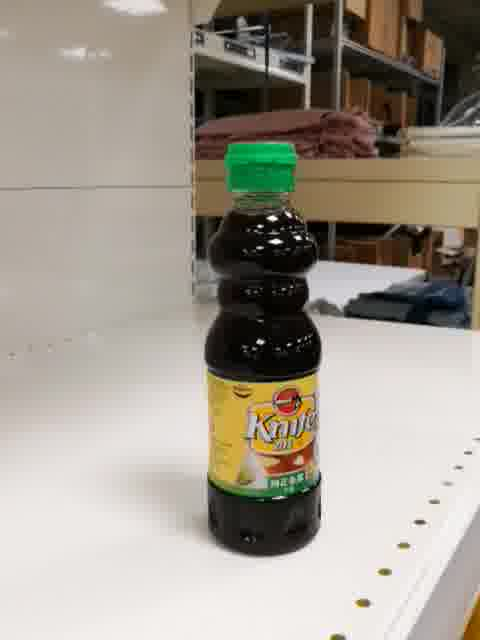cookingoil: (203, 139, 326, 558)
